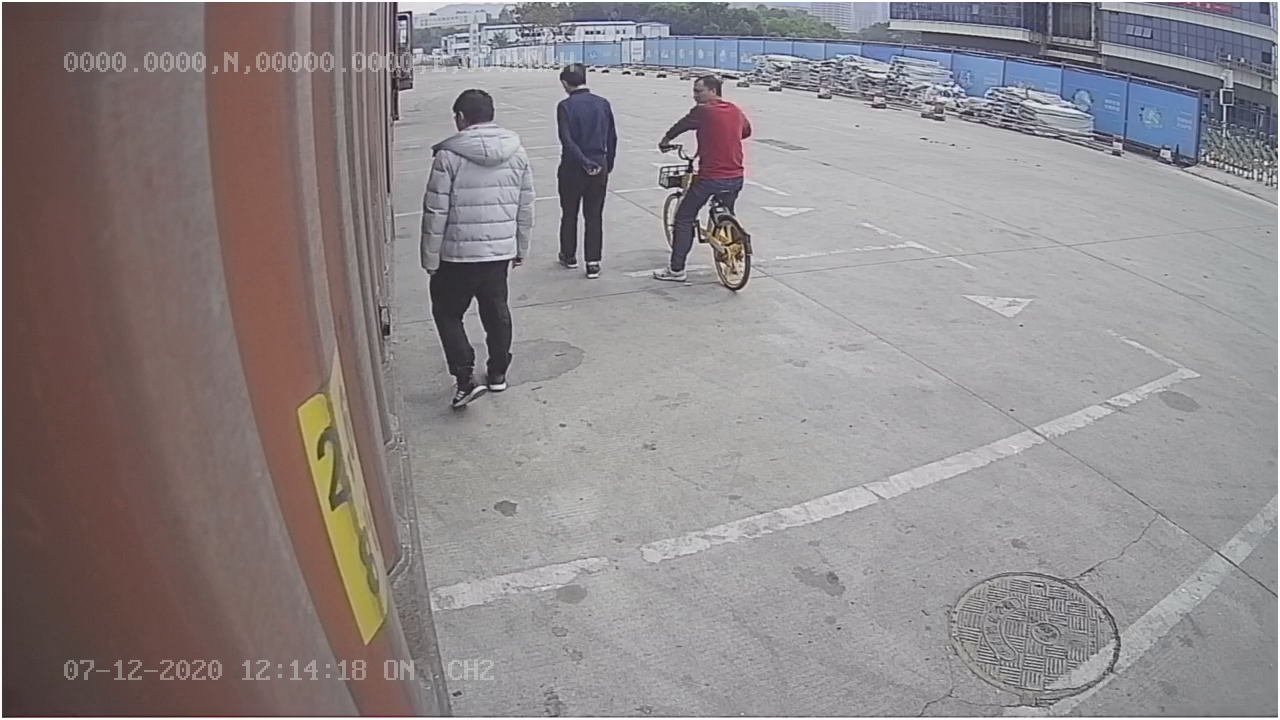person: (422, 85, 540, 413)
